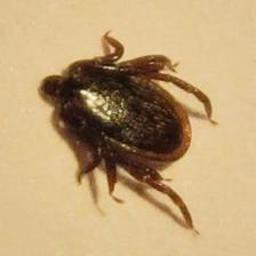Ixodes scapularis: (37, 30, 212, 232)
